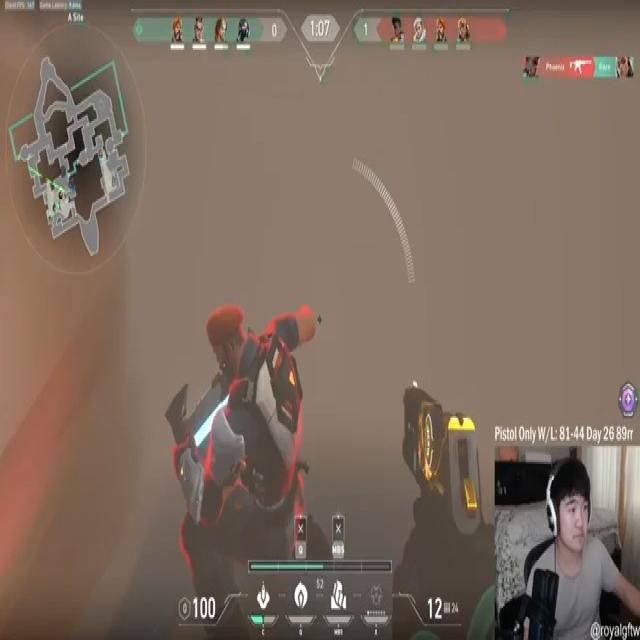enemy: (166, 300, 341, 627)
